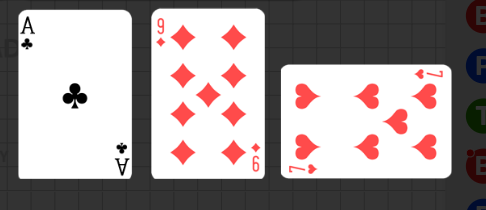7H: (413, 68, 444, 81)
9D: (250, 141, 261, 174)
AC: (112, 140, 129, 177)
